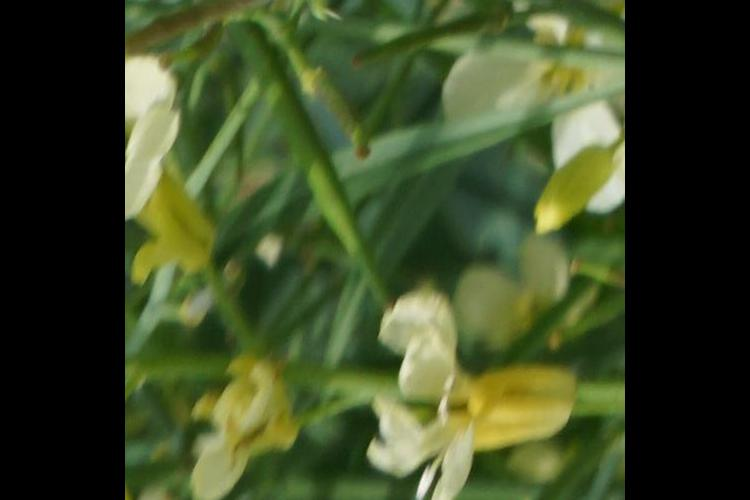bud: (528, 130, 614, 243)
white: (363, 293, 547, 500), (452, 1, 615, 152), (133, 25, 207, 241), (203, 350, 301, 500)
